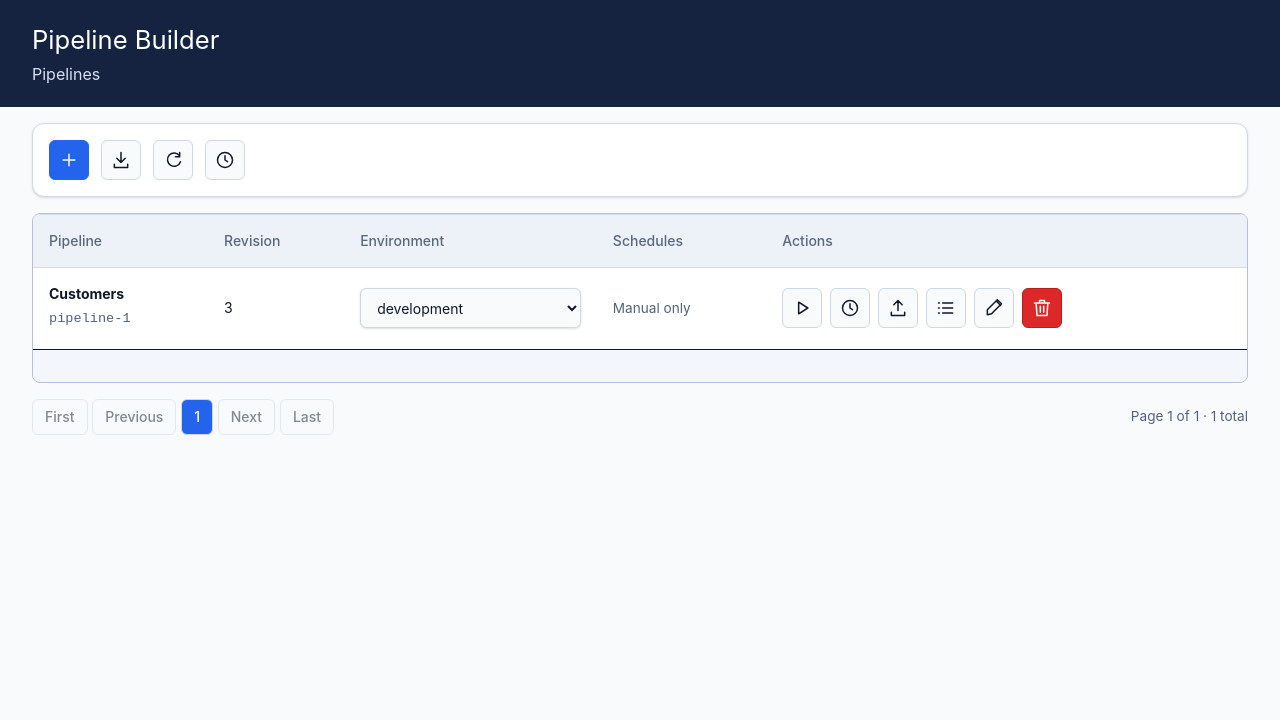
Scenario: keeps pipelines visible beneath the loading overlay during refresh
The image size is (1280, 720).
Expected: the text "Customers" is shown, [49, 285, 124, 302]
Click the button named "Refresh pipelines".
click(173, 160)  # box [153, 140, 193, 180]
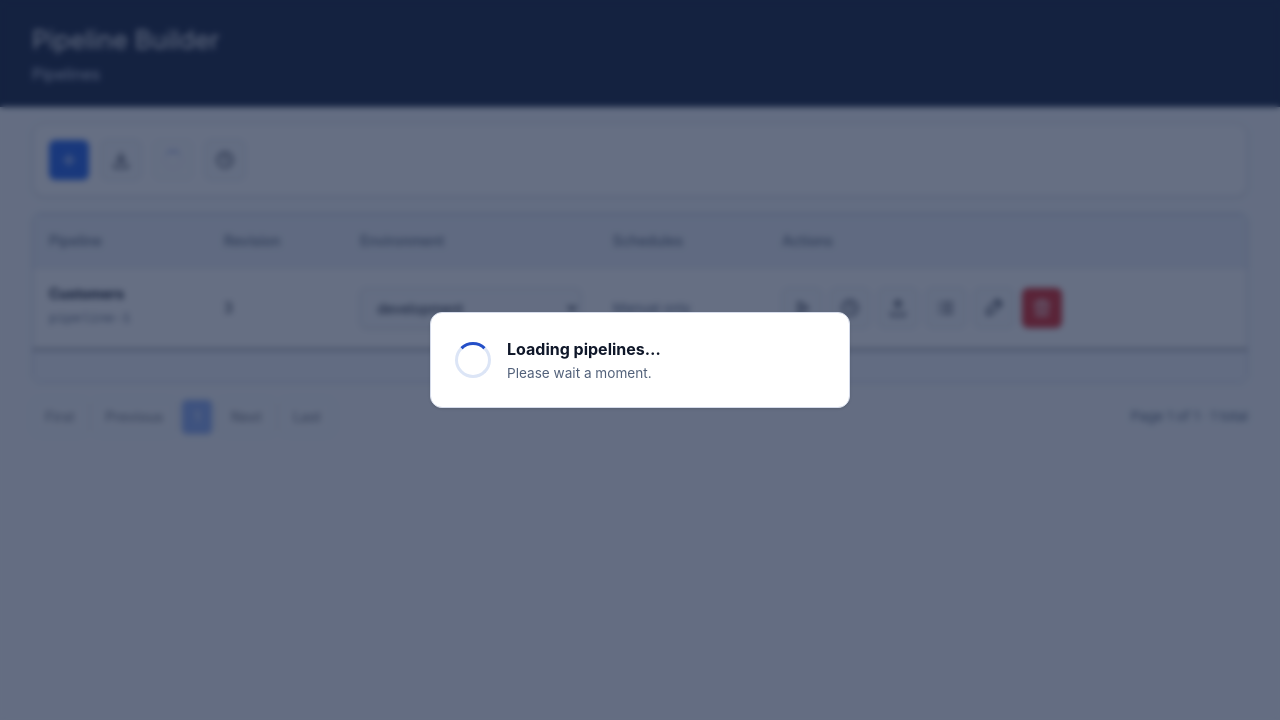
Expected: the text "Customers" is shown, [49, 285, 124, 302]
Result: the text "Loading pipelines…" is shown at [507, 339, 661, 359]
